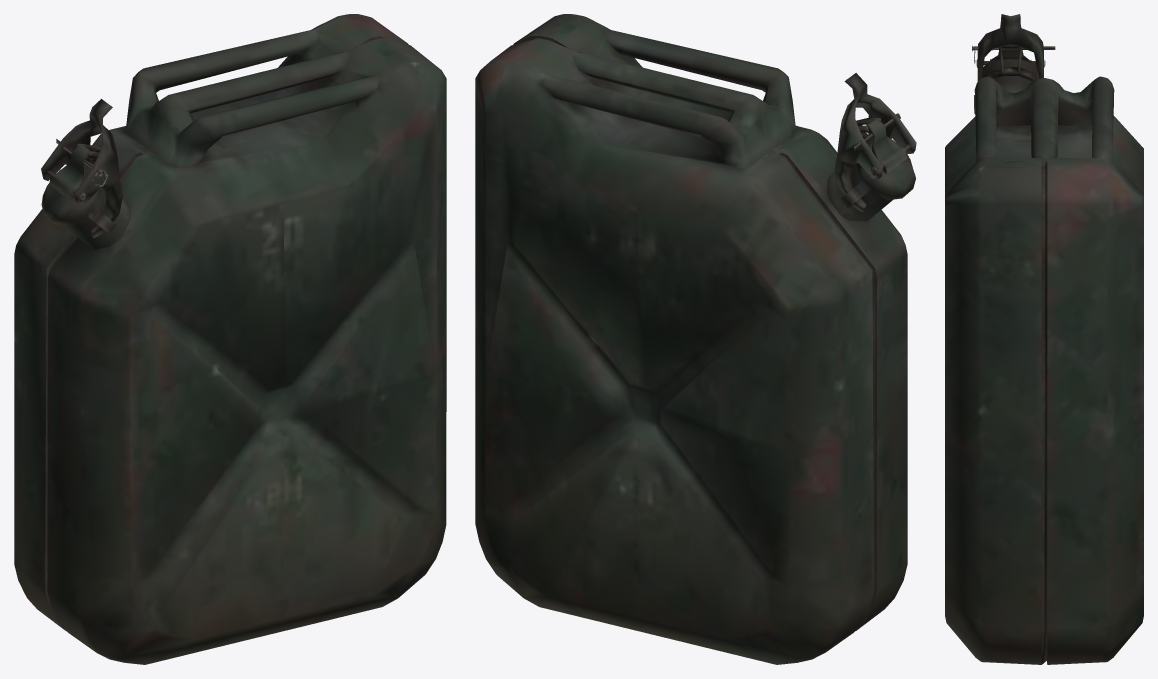
File: metal_jerrycan_green_lod1.glb
The picture shows the model from 3 angles, left to right: view 1: azimuth 30°, elevation 25°; view 2: azimuth 150°, elevation 25°; view 3: azimuth 270°, elevation 25°; orthographic projection. The views are drawn at different scales.
Visible parts, largest first — view 1: metal_jerrycan_green_pin; view 2: metal_jerrycan_green_pin; view 3: metal_jerrycan_green_pin.
Part boxes in pixels (x1=…): metal_jerrycan_green_pin: x1=14, y1=14, x2=446, y2=664; metal_jerrycan_green_pin: x1=475, y1=14, x2=916, y2=664; metal_jerrycan_green_pin: x1=945, y1=14, x2=1143, y2=664.
Size of the model in its own units: 0.36 by 0.4998 by 0.1709.
Materials: 1 (1 with a texture image).
